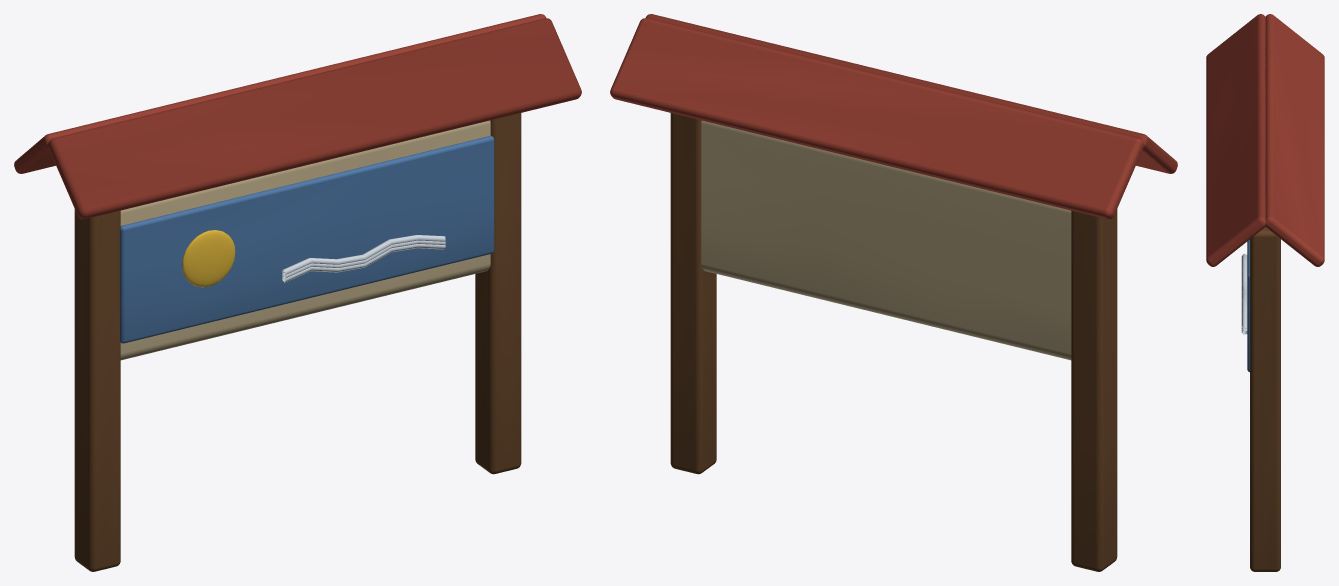
File: signboard.glb
The picture shows the model from 3 angles, left to right: view 1: azimuth 30°, elevation 25°; view 2: azimuth 150°, elevation 25°; view 3: azimuth 270°, elevation 25°; orthographic projection. The views are drawn at different scales.
Visible parts, largest first — view 1: signboard_main; view 2: signboard_main; view 3: signboard_main.
Boxes of the visible parts, bbox=[...] form: signboard_main: bbox=[14, 14, 581, 571]; signboard_main: bbox=[610, 14, 1177, 571]; signboard_main: bbox=[1206, 14, 1324, 571].
Size of the model in its own units: 1.88 by 1.57 by 0.4564.
